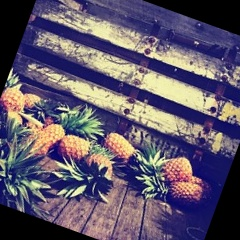Pineapple: (38, 108, 97, 143), (140, 149, 195, 180), (139, 177, 205, 201)
